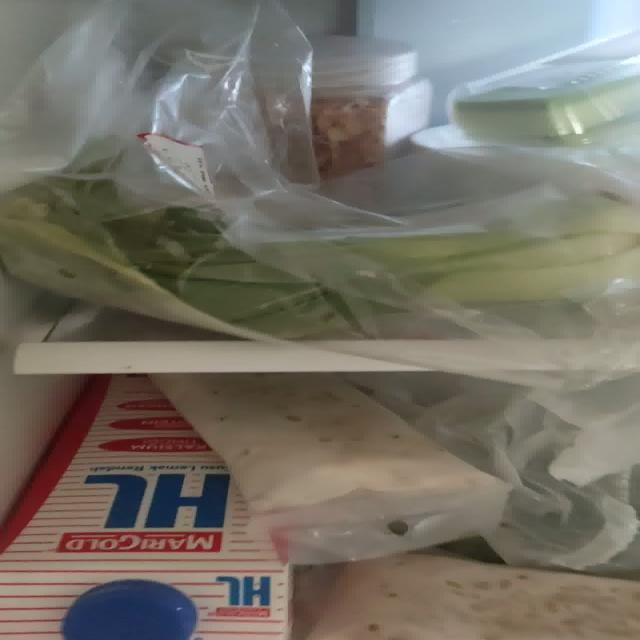pakchoy: (0, 172, 640, 339)
tempeh: (143, 373, 497, 508), (304, 551, 639, 640)
